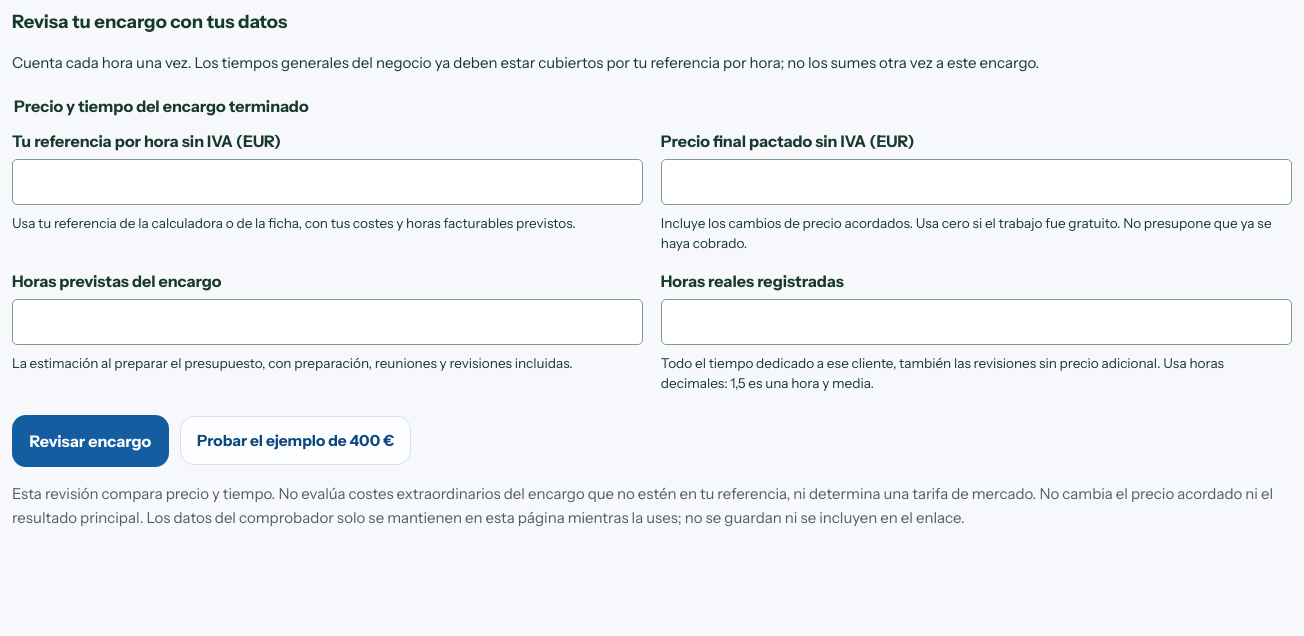
Test: completed project review editor › starts empty, keeps fields out of forms, and focuses the first invalid value
Expected: the field labelled "Tu referencia por hora sin IVA (EUR)" is empty, [12,159,643,205]
Expected: the field labelled "Precio final pactado sin IVA (EUR)" is empty, [661,159,1292,205]
What coordinates should you click on to do the following:
click the button "Revisar encargo"
I would click on:
 (90, 441)
Its box is [12,415,169,467].
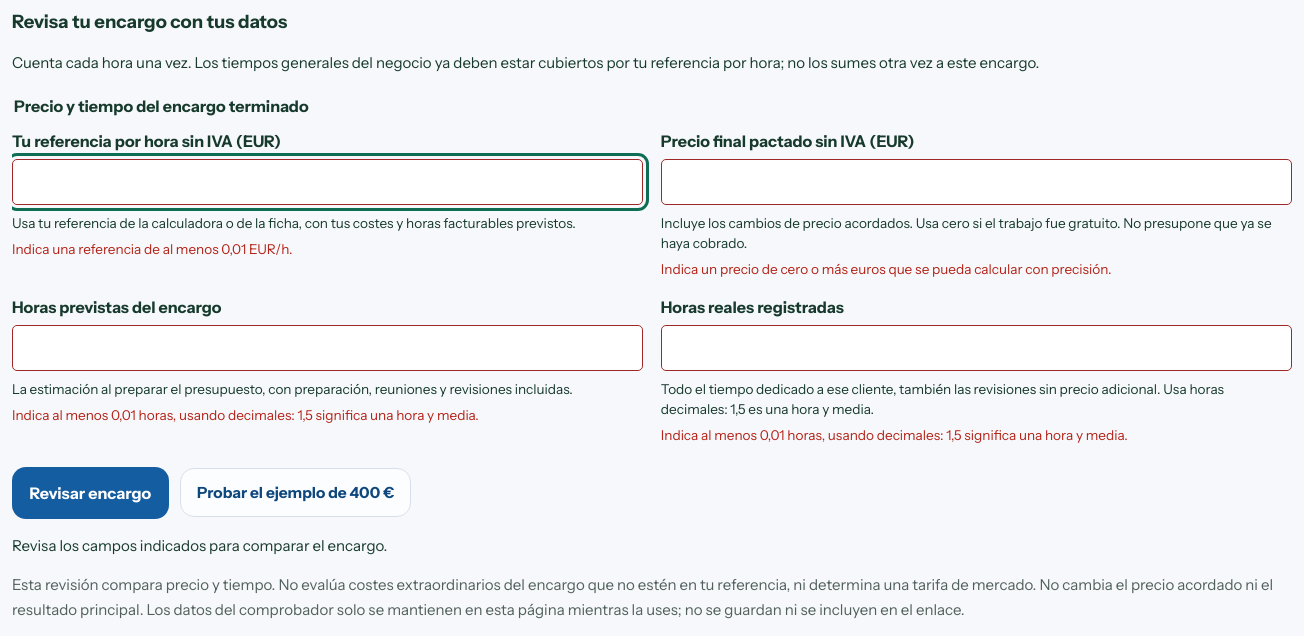
Result: the message named "Revisión del encargo" shows "Revisa los campos" at [12,536,388,555]
